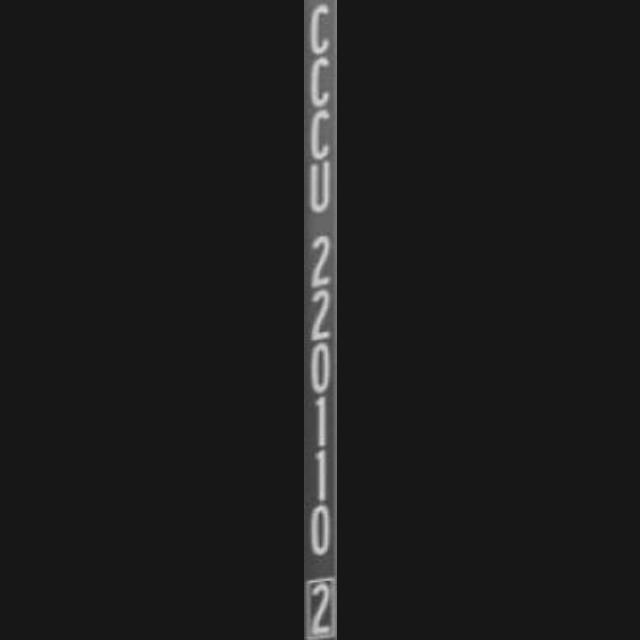0: (306, 501, 336, 557), (304, 337, 336, 389)
1: (306, 387, 336, 451), (306, 449, 336, 503)
2: (304, 572, 336, 640), (304, 225, 336, 287), (304, 287, 336, 343)
c: (304, 106, 336, 162), (304, 56, 336, 110), (308, 0, 336, 54)
u: (304, 158, 336, 218)
